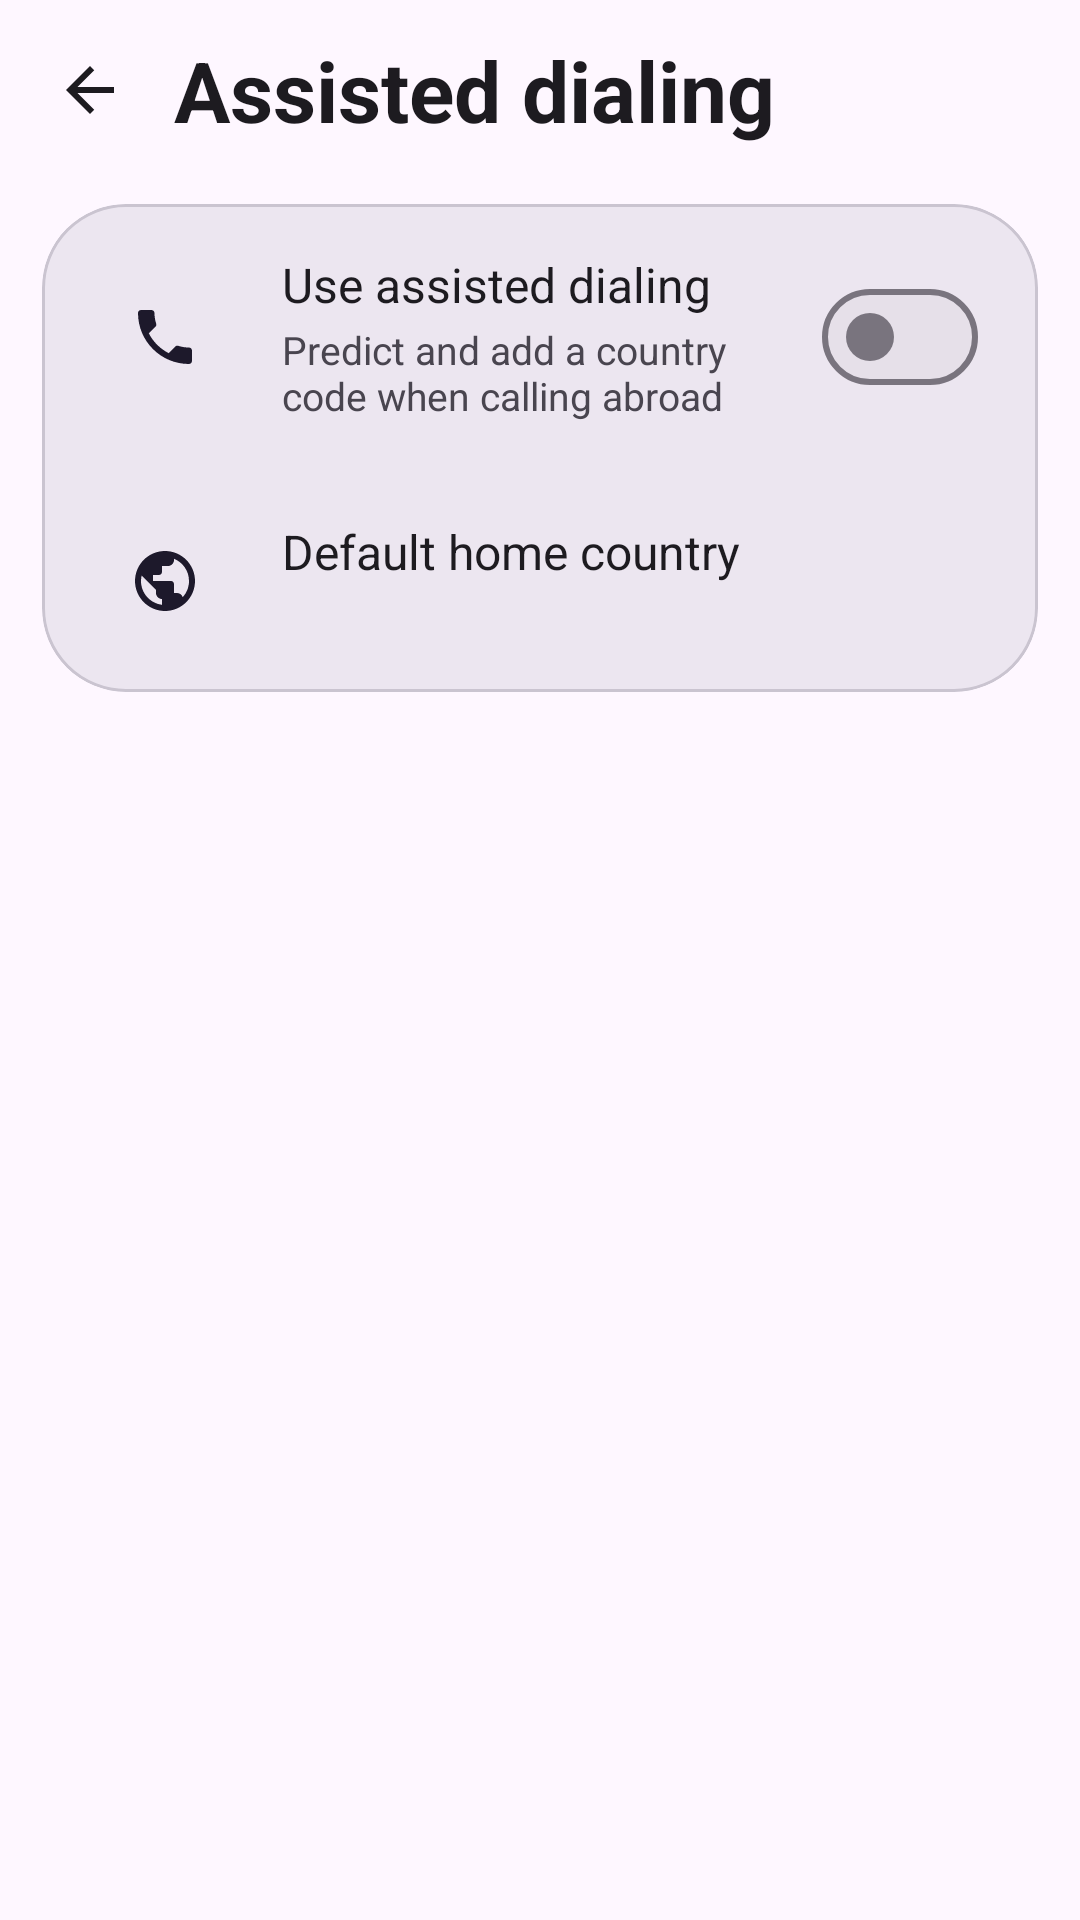

Screen size 1080x1920. Icon name, then its center in pixels as point (x, y):
public: point (165, 581)
